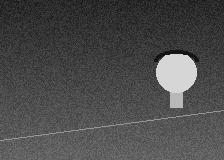no_helmet: (156, 50, 196, 97)
